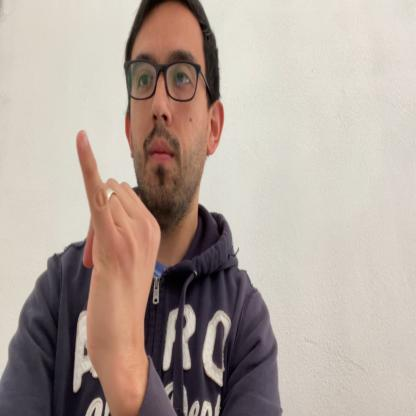I: (74, 130, 162, 366)
